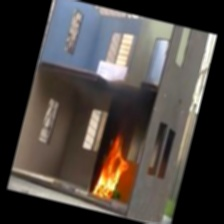fire: (88, 134, 141, 206)
